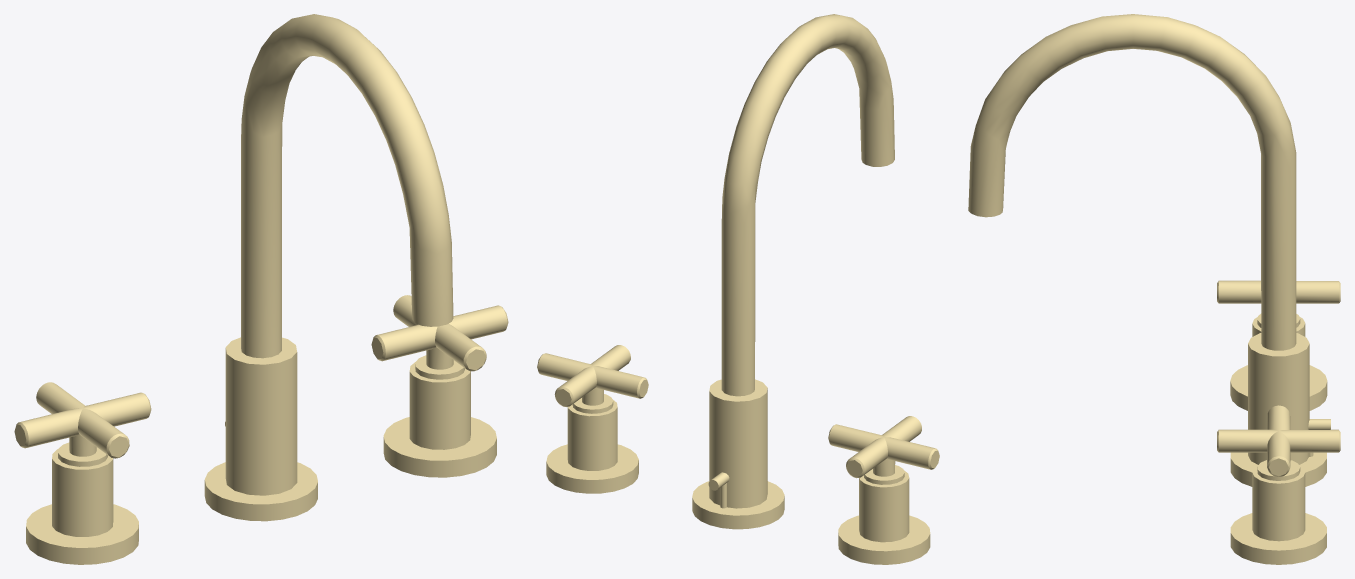
3 renders of one model, left to right at view 1: azimuth 30°, elevation 25°; view 2: azimuth 150°, elevation 25°; view 3: azimuth 270°, elevation 25°, orthographic. The views are drawn at different scales.
Visible parts, largest first — view 1: L_454be727_f6fb_4c08_b1b0_c67c0948ca8f_I2, L_e54ca001_0230_4577_aece_a409b8583370_I10, L_371058ef_0f02_43a9_b4b8_7bc3ba85c9c8_I1, L_eb24f3fe_d0b4_4713_a256_1f955f06846c_I12, L_883a2d26_0259_4d33_bb67_4f522043ac73_I4, L_e3405509_c6c4_470a_acb0_77f942ba75f4_I9, L_d555968e_a1cb_41d2_a98f_e605cbb41c25_I7, L_ec3d141a_c7ff_42cf_b22a_949c6d42b49e_I13, L_e7d97b26_4c8f_4158_a36c_6f6c3a645d85_I11, L_48422829_6662_4c57_8367_27d893442898_I3, L_d59ed4c4_e447_4ff4_920a_f0ccc1159484_I8; view 2: L_454be727_f6fb_4c08_b1b0_c67c0948ca8f_I2, L_e54ca001_0230_4577_aece_a409b8583370_I10, L_371058ef_0f02_43a9_b4b8_7bc3ba85c9c8_I1, L_eb24f3fe_d0b4_4713_a256_1f955f06846c_I12, L_883a2d26_0259_4d33_bb67_4f522043ac73_I4, L_e3405509_c6c4_470a_acb0_77f942ba75f4_I9, L_d555968e_a1cb_41d2_a98f_e605cbb41c25_I7, L_ec3d141a_c7ff_42cf_b22a_949c6d42b49e_I13, L_e7d97b26_4c8f_4158_a36c_6f6c3a645d85_I11; view 3: L_454be727_f6fb_4c08_b1b0_c67c0948ca8f_I2, L_e54ca001_0230_4577_aece_a409b8583370_I10, L_eb24f3fe_d0b4_4713_a256_1f955f06846c_I12, L_e3405509_c6c4_470a_acb0_77f942ba75f4_I9, L_d555968e_a1cb_41d2_a98f_e605cbb41c25_I7, L_371058ef_0f02_43a9_b4b8_7bc3ba85c9c8_I1, L_ec3d141a_c7ff_42cf_b22a_949c6d42b49e_I13, L_e7d97b26_4c8f_4158_a36c_6f6c3a645d85_I11, L_d59ed4c4_e447_4ff4_920a_f0ccc1159484_I8.
Boxes of the visible parts, x1,y1,x2,y2 form: L_454be727_f6fb_4c08_b1b0_c67c0948ca8f_I2: (241, 14, 453, 358); L_e54ca001_0230_4577_aece_a409b8583370_I10: (225, 337, 297, 495); L_371058ef_0f02_43a9_b4b8_7bc3ba85c9c8_I1: (14, 382, 151, 458); L_eb24f3fe_d0b4_4713_a256_1f955f06846c_I12: (371, 295, 508, 371); L_883a2d26_0259_4d33_bb67_4f522043ac73_I4: (52, 449, 113, 536); L_e3405509_c6c4_470a_acb0_77f942ba75f4_I9: (409, 362, 470, 449); L_d555968e_a1cb_41d2_a98f_e605cbb41c25_I7: (383, 417, 496, 477); L_ec3d141a_c7ff_42cf_b22a_949c6d42b49e_I13: (26, 504, 138, 564); L_e7d97b26_4c8f_4158_a36c_6f6c3a645d85_I11: (204, 462, 317, 521); L_48422829_6662_4c57_8367_27d893442898_I3: (58, 442, 107, 466); L_d59ed4c4_e447_4ff4_920a_f0ccc1159484_I8: (415, 355, 465, 379); L_454be727_f6fb_4c08_b1b0_c67c0948ca8f_I2: (721, 14, 894, 396); L_e54ca001_0230_4577_aece_a409b8583370_I10: (709, 379, 767, 508); L_371058ef_0f02_43a9_b4b8_7bc3ba85c9c8_I1: (828, 416, 939, 478); L_eb24f3fe_d0b4_4713_a256_1f955f06846c_I12: (537, 345, 648, 406); L_883a2d26_0259_4d33_bb67_4f522043ac73_I4: (859, 470, 909, 542); L_e3405509_c6c4_470a_acb0_77f942ba75f4_I9: (567, 400, 617, 470); L_d555968e_a1cb_41d2_a98f_e605cbb41c25_I7: (546, 444, 638, 493); L_ec3d141a_c7ff_42cf_b22a_949c6d42b49e_I13: (838, 515, 930, 564); L_e7d97b26_4c8f_4158_a36c_6f6c3a645d85_I11: (692, 481, 784, 529); L_454be727_f6fb_4c08_b1b0_c67c0948ca8f_I2: (968, 14, 1296, 350); L_e54ca001_0230_4577_aece_a409b8583370_I10: (1248, 333, 1309, 464); L_eb24f3fe_d0b4_4713_a256_1f955f06846c_I12: (1217, 405, 1340, 476); L_e3405509_c6c4_470a_acb0_77f942ba75f4_I9: (1252, 466, 1305, 541); L_d555968e_a1cb_41d2_a98f_e605cbb41c25_I7: (1230, 513, 1326, 564); L_371058ef_0f02_43a9_b4b8_7bc3ba85c9c8_I1: (1217, 280, 1340, 303); L_ec3d141a_c7ff_42cf_b22a_949c6d42b49e_I13: (1230, 365, 1327, 410); L_e7d97b26_4c8f_4158_a36c_6f6c3a645d85_I11: (1230, 452, 1326, 486); L_d59ed4c4_e447_4ff4_920a_f0ccc1159484_I8: (1257, 460, 1300, 480).
Size of the model in its own units: 0.2697 by 0.284 by 0.2109.
